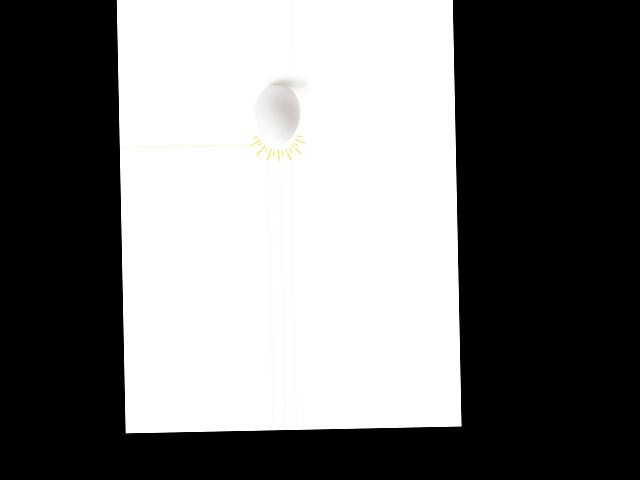egg: (253, 84, 300, 145)
